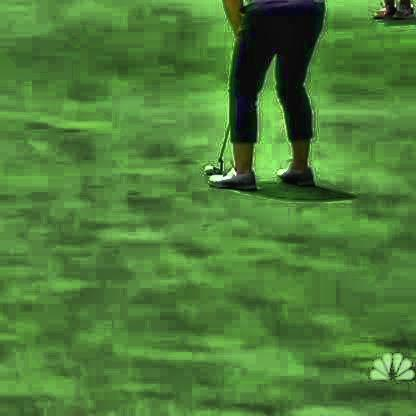golfball: (202, 161, 212, 171)
